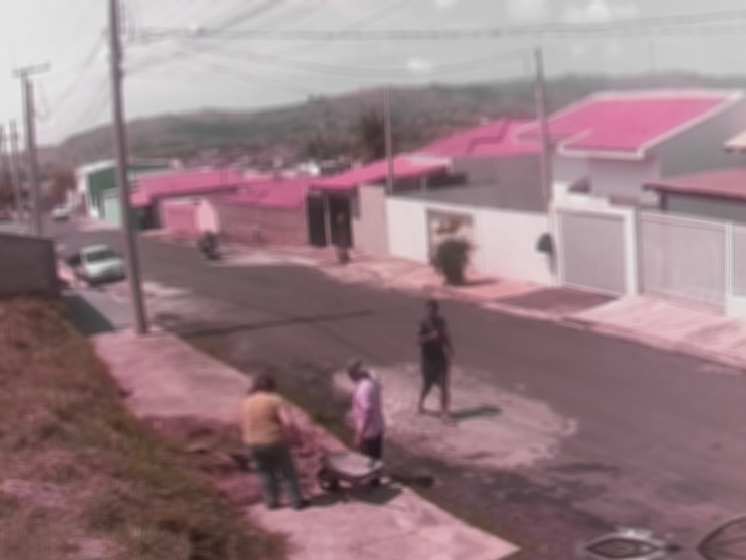person: (239, 374, 310, 512), (414, 300, 460, 426), (346, 356, 386, 487), (198, 229, 219, 257)
